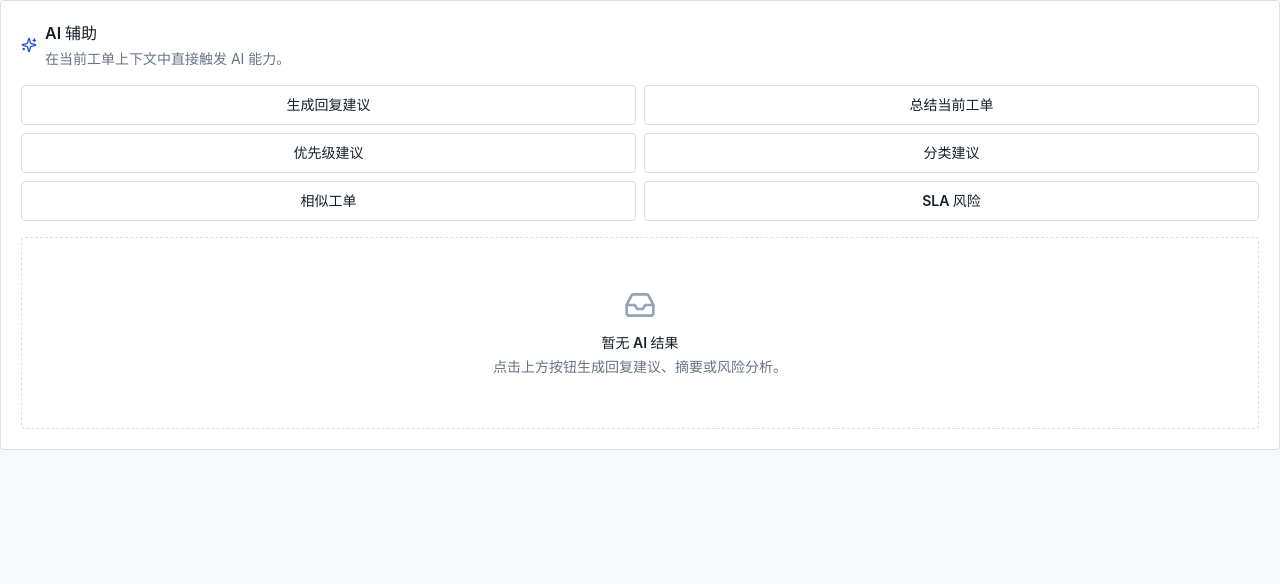
Test: TicketAiAssistantPanel › renders all structured AI result cards
Click the button "生成回复建议" at (328, 105), box [21,85,636,125]
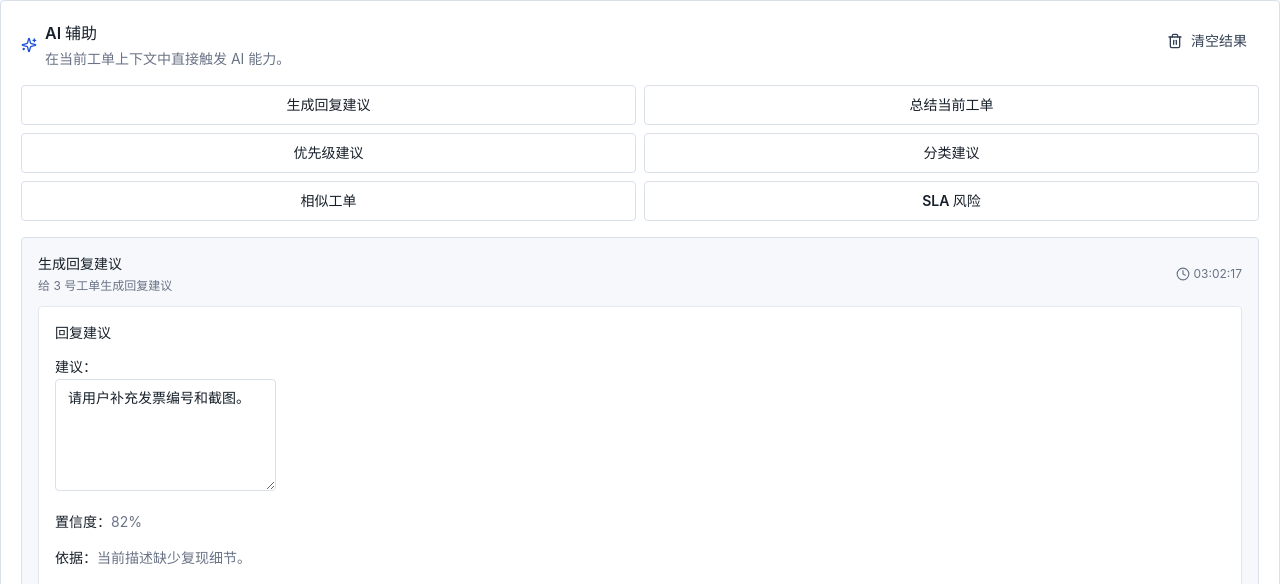
Check: the text box showing "请用户补充发票编号和截图。" is shown, box [55,379,276,491]
Click the button "总结当前工单" at (952, 105), box [644,85,1259,125]
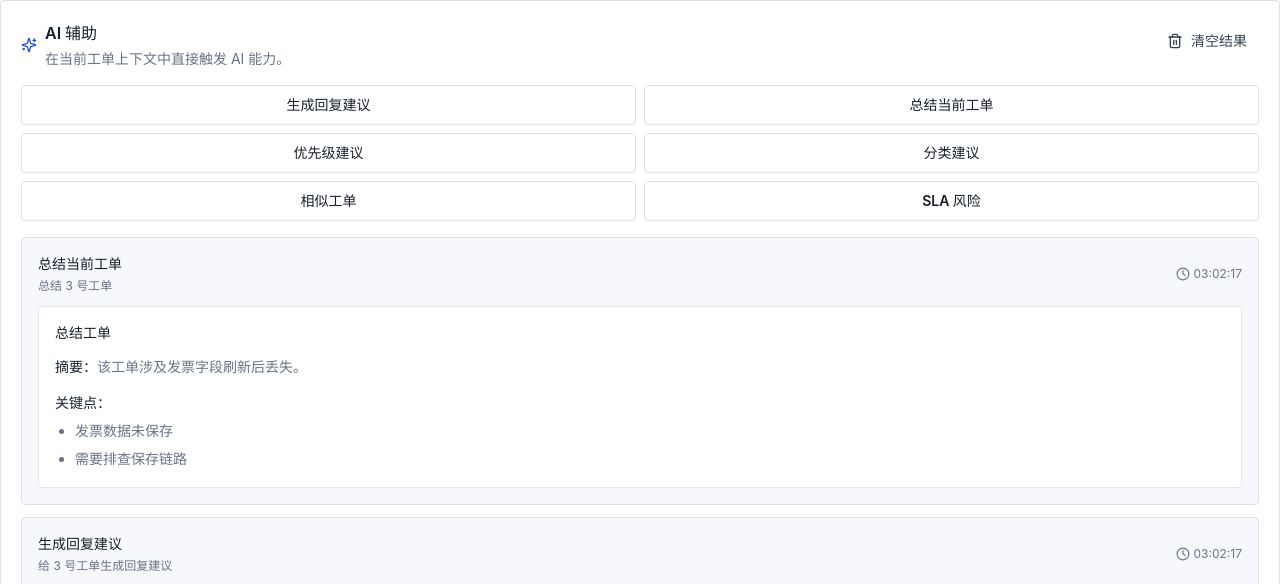
Check: the text "该工单涉及发票字段刷新后丢失。" is shown, box [97,358,307,375]
Click the button "优先级建议" at (328, 153), box [21,133,636,173]
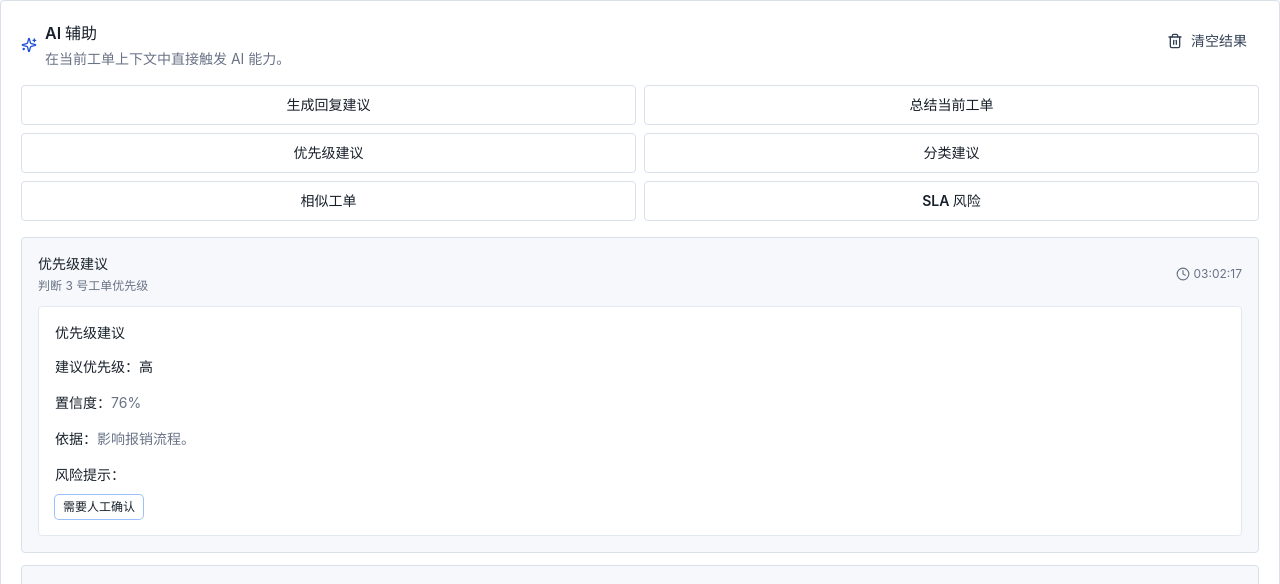
Click the button "分类建议" at (952, 153), box [644,133,1259,173]
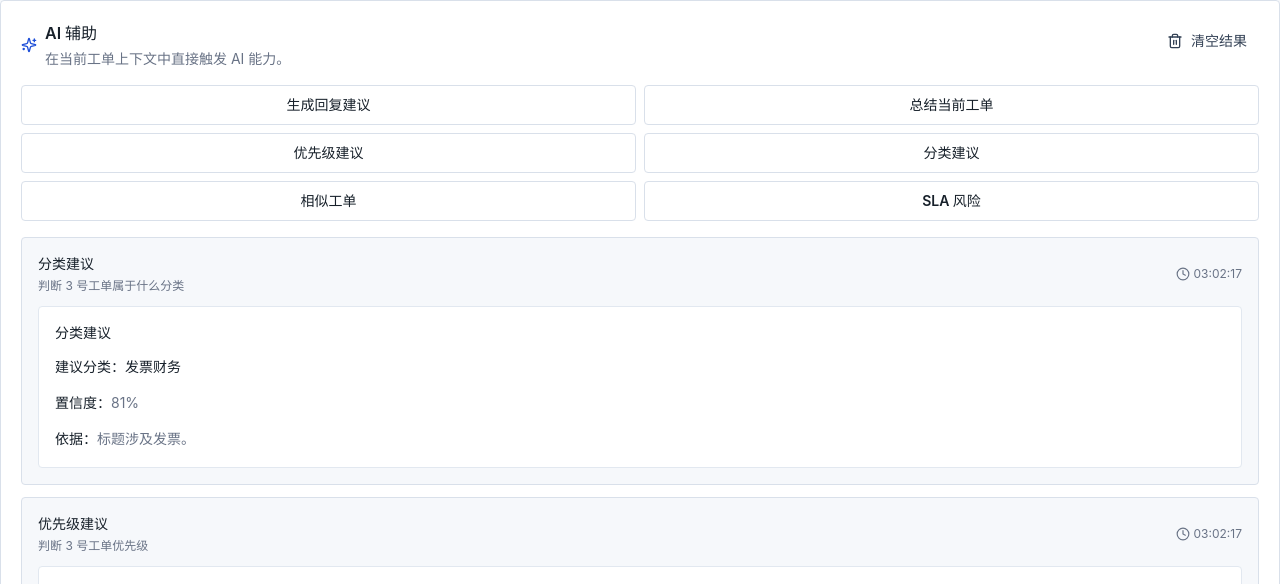
Click the button "相似工单" at (328, 201), box [21,181,636,221]
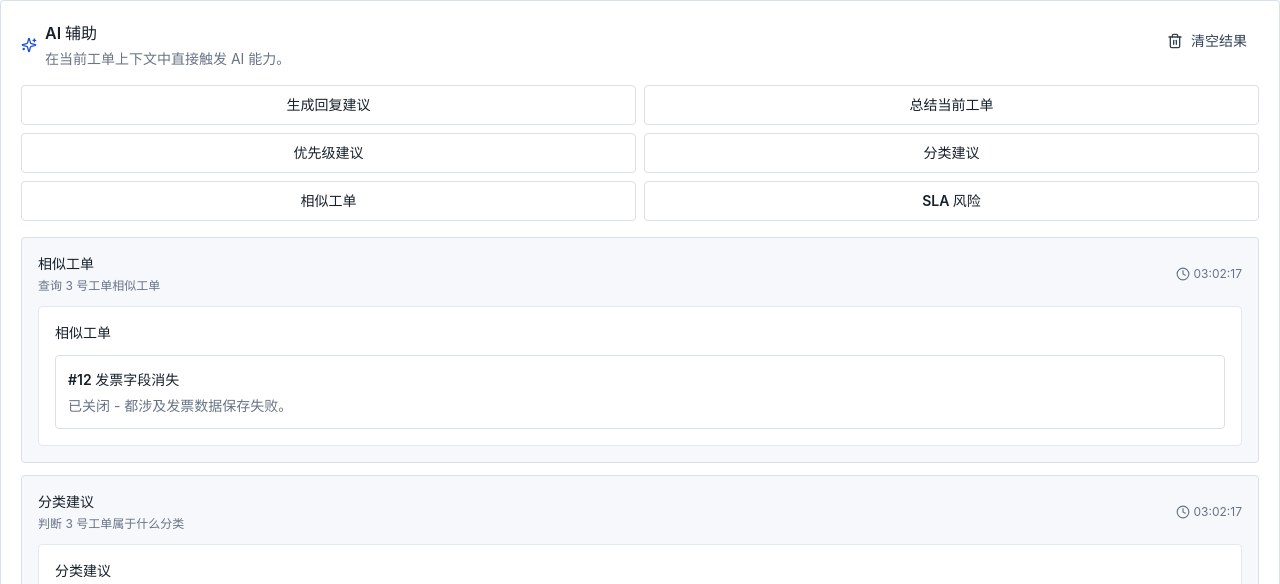
Check: the text "#12 发票字段消失" is shown, box [68,371,179,388]
Check: the text "已关闭 - 都涉及发票数据保存失败。" is shown, box [68,397,292,414]
Click the button "SLA 风险" at (952, 201), box [644,181,1259,221]
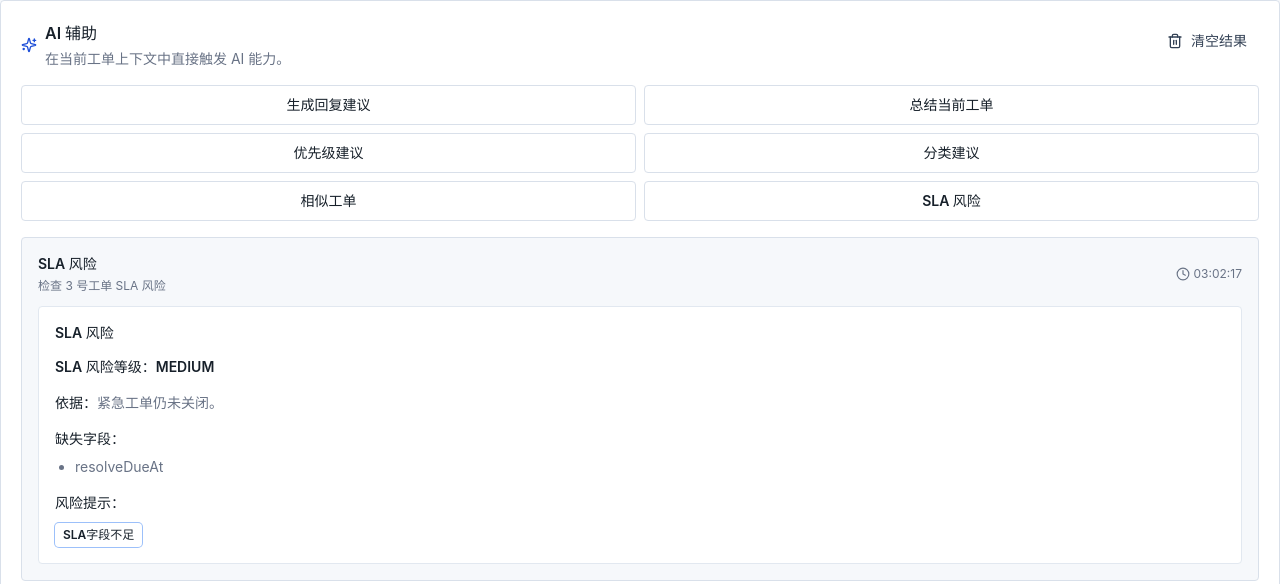
Check: the list item "resolveDueAt" is shown, box [75,458,163,475]
